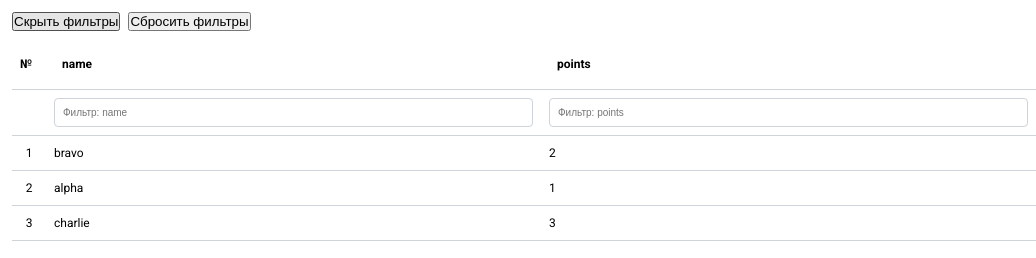
DataTable sort cycle › cycles a column through asc → desc → reset
This screenshot has width=1036, height=258.
What coordinates should you click on to do the following:
click the button "name"
I would click on:
 (77, 64)
Its box is [54, 47, 533, 81].
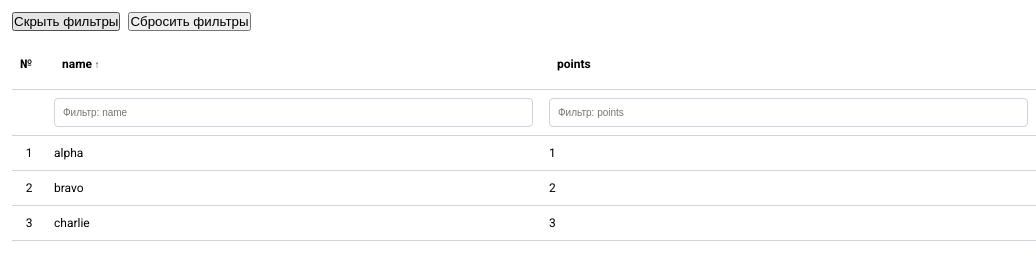
Expected: the row "3 charlie 3" is shown, [12, 206, 1035, 240]
Expected: the row "1 alpha 1" is shown, [12, 136, 1035, 170]
What coordinates should you click on to do the following:
click the button "name ↑"
I would click on:
 (77, 64)
Its box is [54, 47, 533, 81].
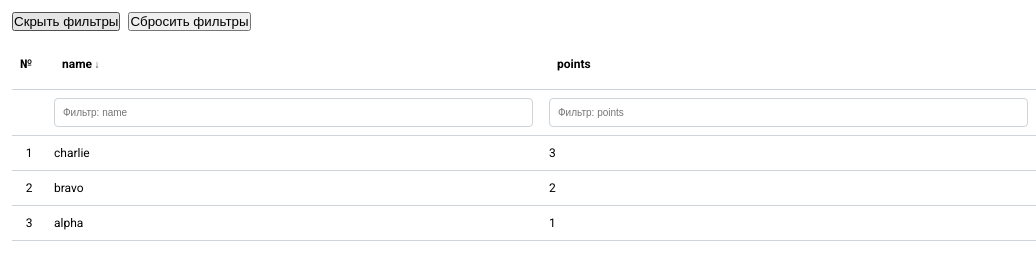
Expected: the row "1 charlie 3" is shown, [12, 136, 1035, 170]
Expected: the row "3 alpha 1" is shown, [12, 206, 1035, 240]
What coordinates should you click on to do the following:
click the button "name ↓"
I would click on:
 (77, 64)
Its box is [54, 47, 533, 81].
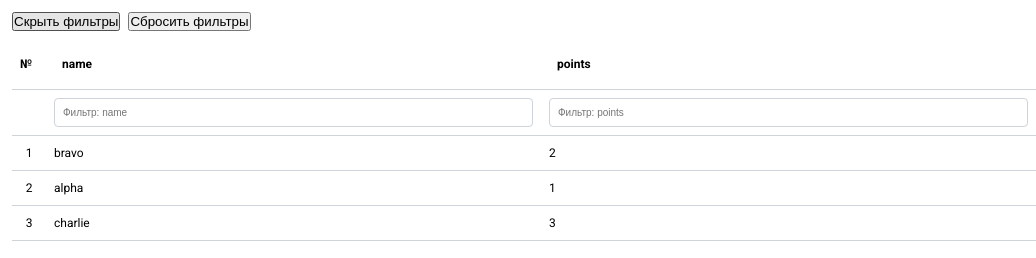
Expected: the row "1 bravo 2" is shown, [12, 136, 1035, 170]
Expected: the row "3 charlie 3" is shown, [12, 206, 1035, 240]
